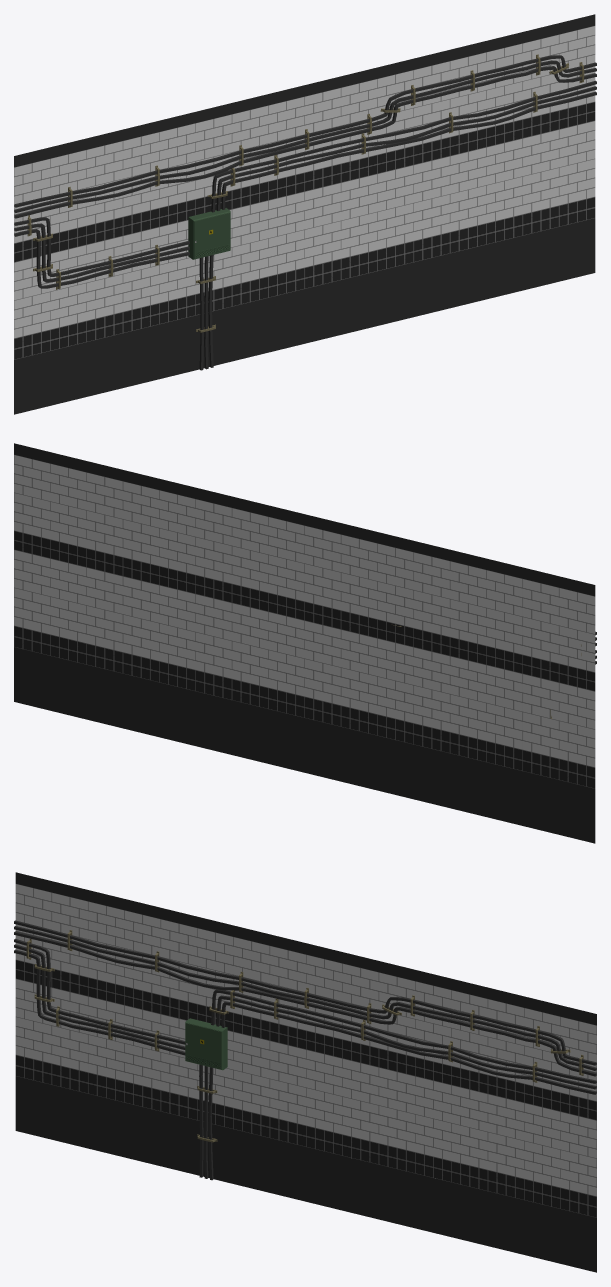
The model's file is SW_ENV_StationTunnel_Wall_A_01b_10m_FF.fbx.
The picture shows the model from 3 angles, top to bottom: view 1: azimuth 30°, elevation 25°; view 2: azimuth 150°, elevation 25°; view 3: azimuth 330°, elevation 25°; orthographic projection.
Parts seen in each view (by area): view 1: SW_ENV_StationTunnel_Wall_A_01b_10m_FF; view 2: SW_ENV_StationTunnel_Wall_A_01b_10m_FF; view 3: SW_ENV_StationTunnel_Wall_A_01b_10m_FF.
Part boxes in pixels (x1,y1,x2,y2): SW_ENV_StationTunnel_Wall_A_01b_10m_FF: (14,14,596,414); SW_ENV_StationTunnel_Wall_A_01b_10m_FF: (14,443,596,843); SW_ENV_StationTunnel_Wall_A_01b_10m_FF: (14,872,596,1272).
Bounding box in the file's own units: 1000 × 425 × 16.9.
